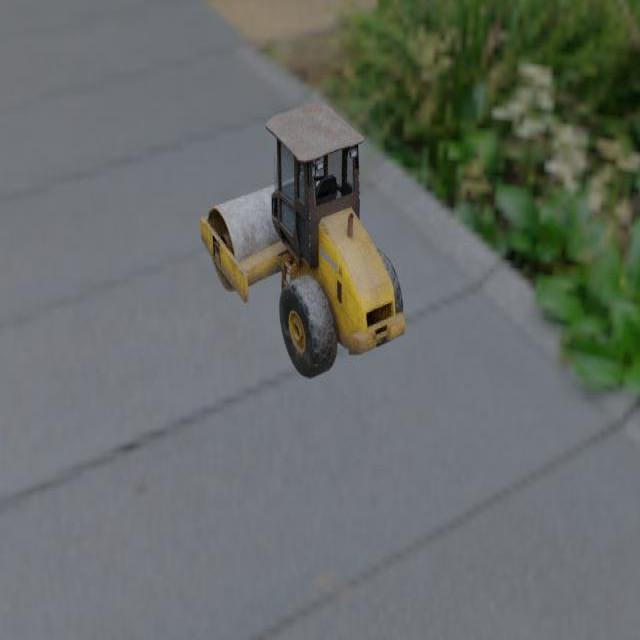Roller: (199, 102, 405, 378)
